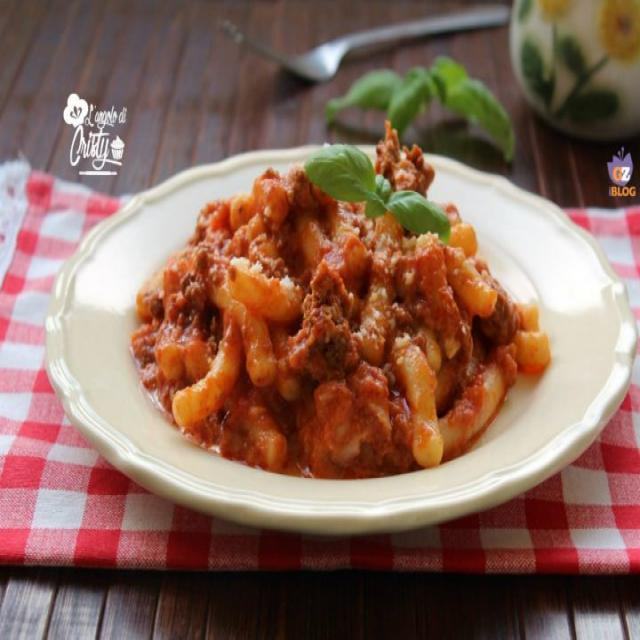Pasta al ragu: (85, 120, 599, 517)
